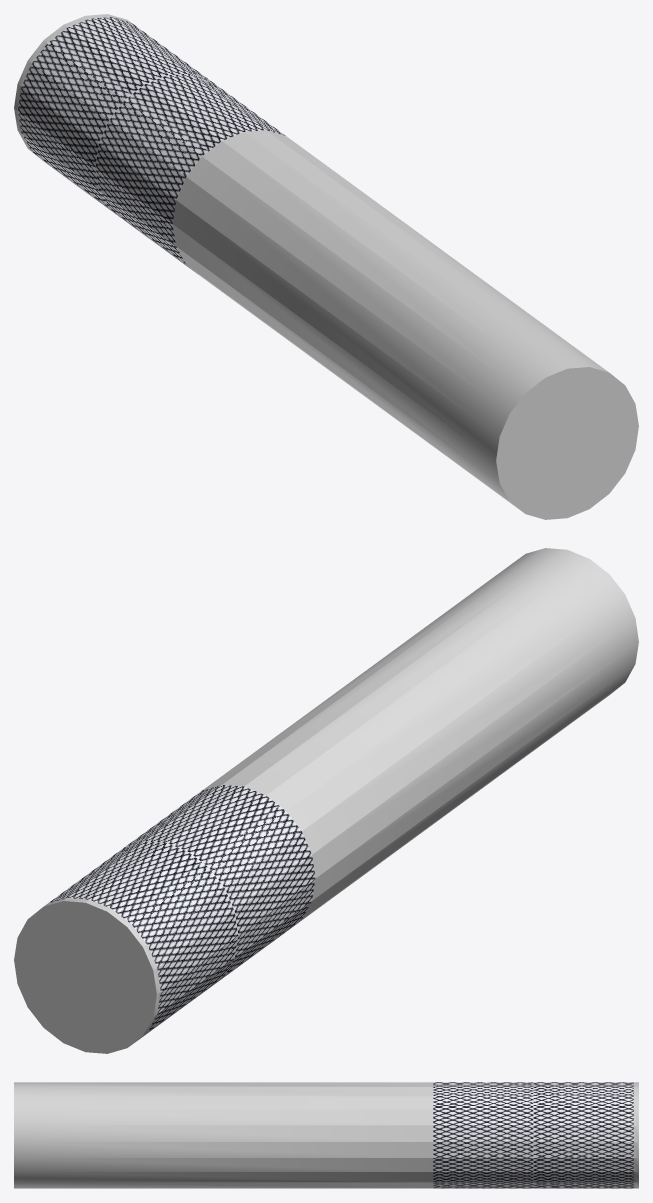
Rendered from knurling peace.fbx.
The picture shows the model from 3 angles, top to bottom: view 1: azimuth 30°, elevation 25°; view 2: azimuth 150°, elevation 25°; view 3: azimuth 270°, elevation 25°; orthographic projection. The views are drawn at different scales.
Parts seen in each view (by area): view 1: workpice; view 2: workpice; view 3: workpice.
Part boxes in pixels (x1,y1,x2,y2): workpice: (14, 14, 638, 519); workpice: (14, 548, 638, 1053); workpice: (14, 1082, 638, 1188).
Size of the model in its own units: 6.78 by 6.78 by 39.65.
